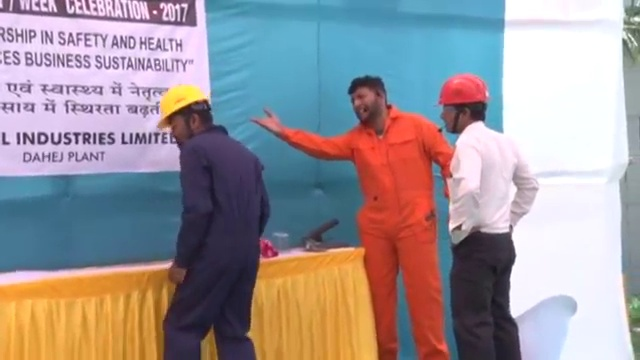helmet: (155, 83, 211, 130), (434, 72, 493, 109)
helmet_off: (347, 74, 392, 126)
helmet_on: (153, 82, 217, 148), (433, 72, 496, 137)
person: (251, 73, 454, 360), (153, 83, 270, 360), (431, 71, 541, 360)
